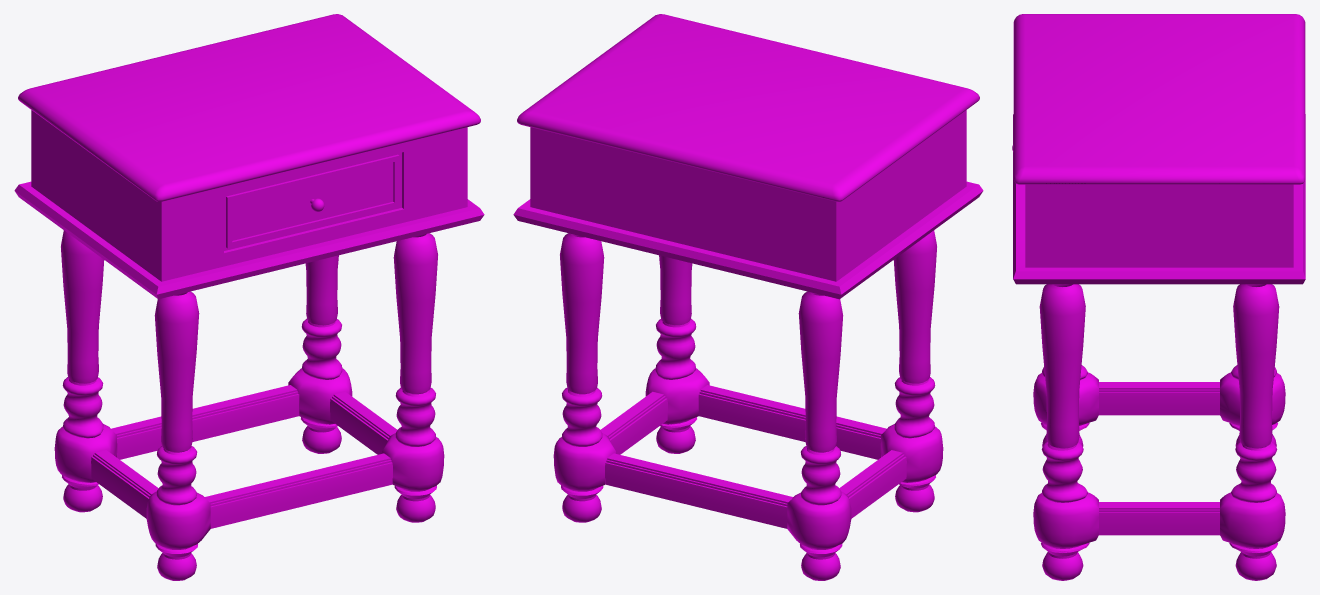
The model's file is small-table.fbx.
The picture shows the model from 3 angles, left to right: view 1: azimuth 30°, elevation 25°; view 2: azimuth 150°, elevation 25°; view 3: azimuth 270°, elevation 25°; orthographic projection. The views are drawn at different scales.
Parts seen in each view (by area): view 1: table, table_top; view 2: table, table_top; view 3: table, table_top.
Part boxes in pixels (<box>): table: <box>14,14,484,580</box>; table_top: <box>18,99,480,201</box>; table: <box>513,14,983,580</box>; table_top: <box>517,99,979,201</box>; table: <box>1013,14,1305,580</box>; table_top: <box>1014,171,1304,184</box>.
Bounding box in the file's own units: 185 × 224 × 140.
